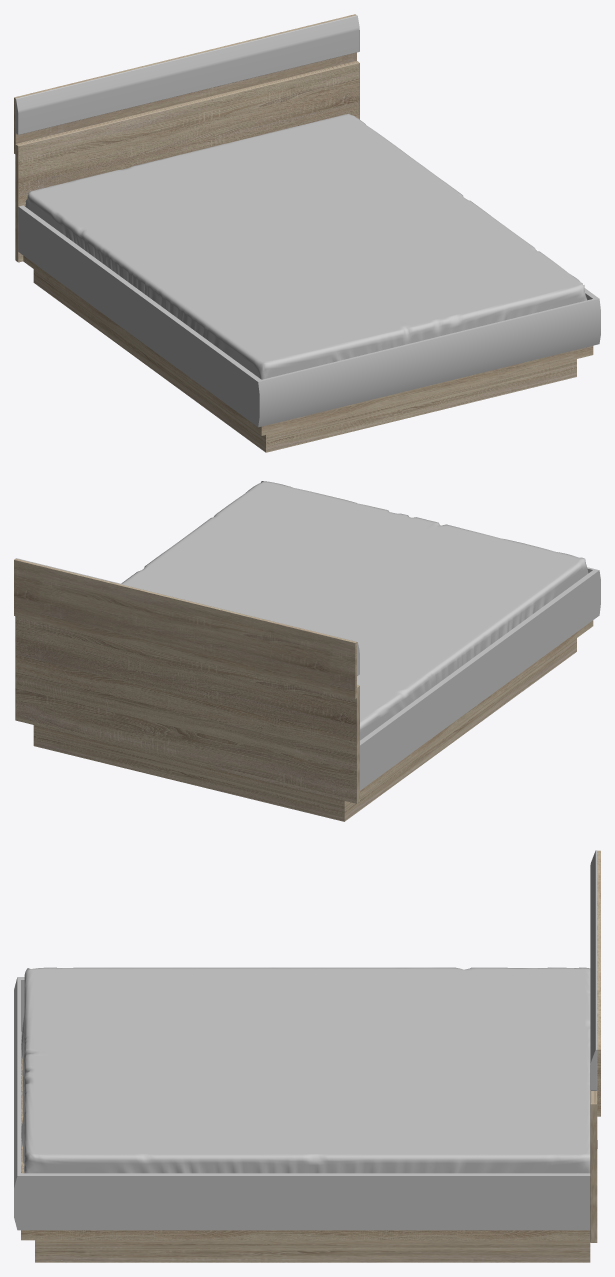
The model's file is bed.gltf.
3 renders of one model, top to bottom at view 1: azimuth 30°, elevation 25°; view 2: azimuth 150°, elevation 25°; view 3: azimuth 270°, elevation 25°, orthographic. The views are drawn at different scales.
Visible parts, largest first — view 1: Box021, Box001, Box002, Box003, Box006, Box005, Box004; view 2: Box021, Box002, Box004, Box001, Box006, Box005, Box003; view 3: Box021, Box001, Box006, Box005, Box003, Box002, Box004.
Part boxes in pixels (x1,y1,x2,y2): Box021: [25, 113, 587, 379]; Box001: [18, 205, 600, 427]; Box002: [15, 61, 359, 262]; Box003: [15, 15, 359, 134]; Box006: [33, 269, 576, 452]; Box005: [23, 256, 593, 435]; Box004: [14, 14, 356, 153]; Box021: [106, 481, 588, 740]; Box002: [15, 616, 359, 803]; Box004: [14, 558, 356, 698]; Box001: [360, 567, 600, 790]; Box006: [33, 638, 576, 821]; Box005: [360, 620, 593, 796]; Box003: [16, 558, 359, 675]; Box021: [21, 967, 597, 1173]; Box001: [14, 977, 590, 1230]; Box006: [35, 1240, 590, 1262]; Box005: [21, 1031, 590, 1240]; Box003: [590, 850, 597, 1090]; Box002: [590, 1090, 597, 1242]; Box004: [597, 850, 600, 1116].
Size of the model in its own units: 1.66 by 0.861 by 2.06.
3 materials, 1 textured.
